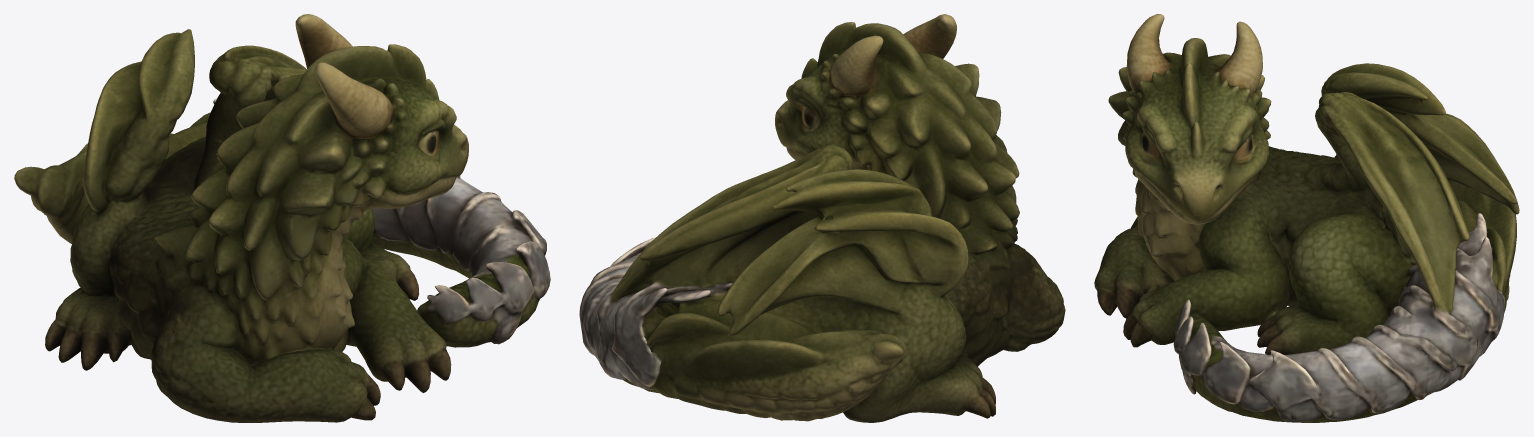
Rendered from generation_dragon_1.glb.
The picture shows the model from 3 angles, left to right: view 1: azimuth 30°, elevation 25°; view 2: azimuth 150°, elevation 25°; view 3: azimuth 270°, elevation 25°; orthographic projection. The views are drawn at different scales.
Parts seen in each view (by area): view 1: geometry_0; view 2: geometry_0; view 3: geometry_0.
Boxes of the visible parts, x1=… form: geometry_0: x1=14, y1=14, x2=550, y2=422; geometry_0: x1=579, y1=14, x2=1065, y2=422; geometry_0: x1=1094, y1=14, x2=1519, y2=422.
Size of the model in its own units: 0.9998 by 0.7261 by 0.9334.
1 material, 1 textured.
